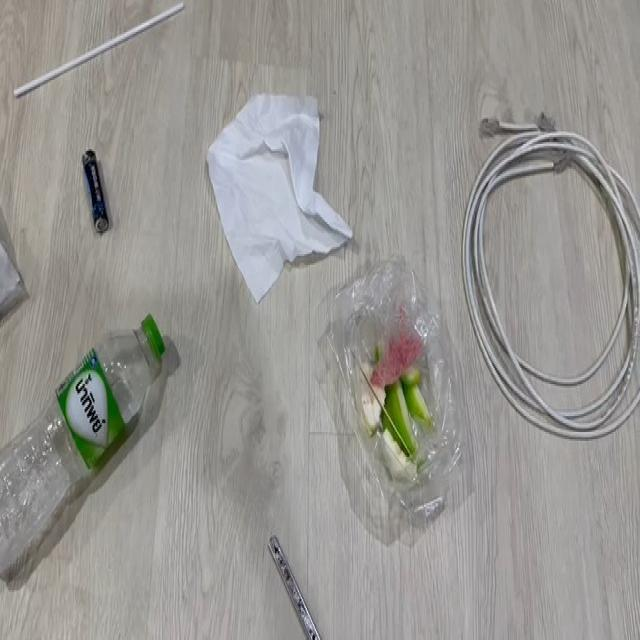Anorganik: (0, 358, 198, 556), (195, 80, 332, 304), (25, 20, 186, 84), (269, 530, 335, 639), (1, 236, 36, 342)
B3: (474, 136, 640, 437), (321, 286, 466, 526), (81, 139, 115, 243)
